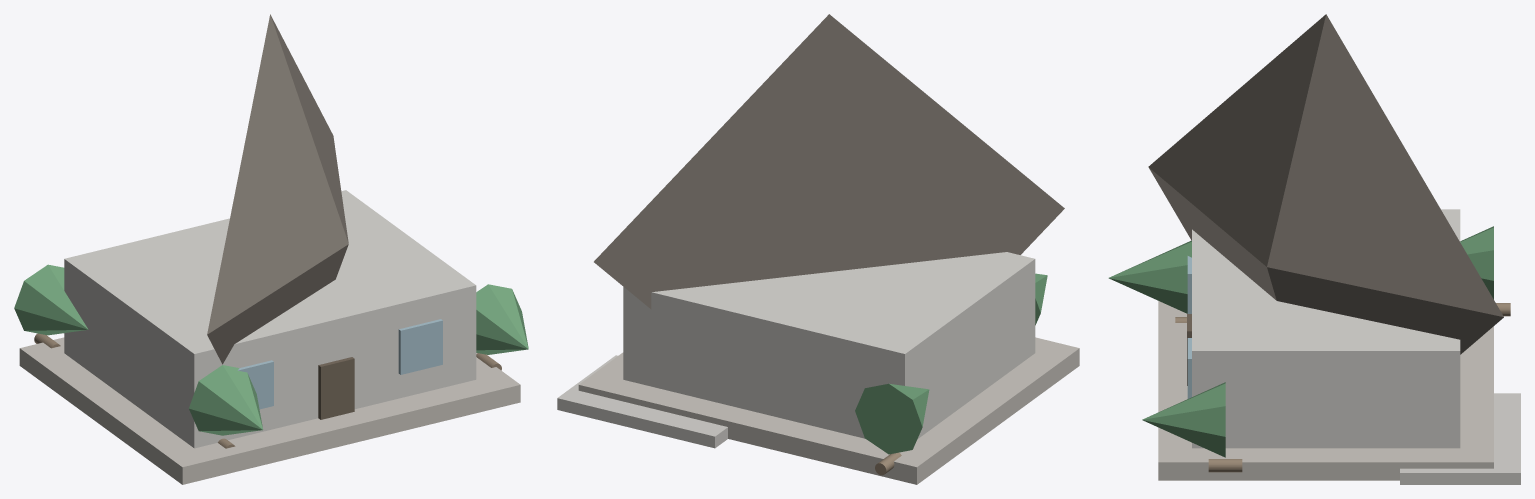
File: villa.glb
The picture shows the model from 3 angles, left to right: view 1: azimuth 30°, elevation 25°; view 2: azimuth 150°, elevation 25°; view 3: azimuth 270°, elevation 25°; orthographic projection. The views are drawn at different scales.
Visible parts, largest first — view 1: world; view 2: world; view 3: world.
Boxes of the visible parts, left/top/right/bottom form: world: left=14, top=14, right=528, bottom=484; world: left=557, top=14, right=1079, bottom=484; world: left=1108, top=14, right=1520, bottom=484.
Bounding box in the file's own units: 13.4 × 15 × 12.3.
